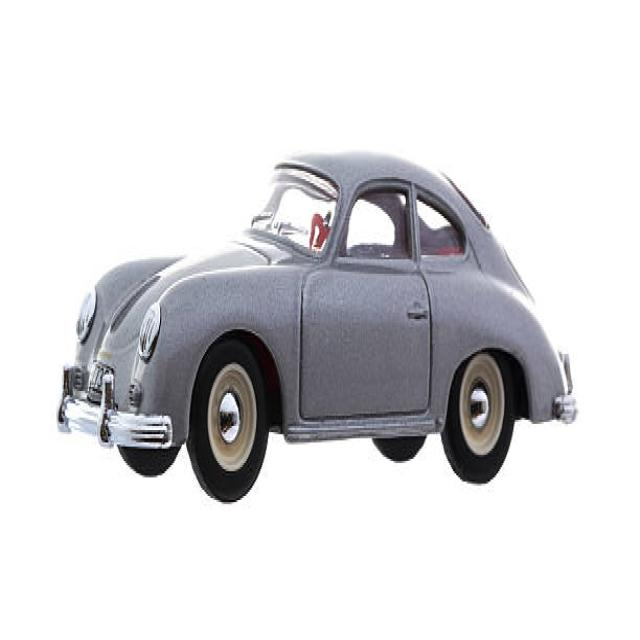Car: (56, 148, 578, 502)
